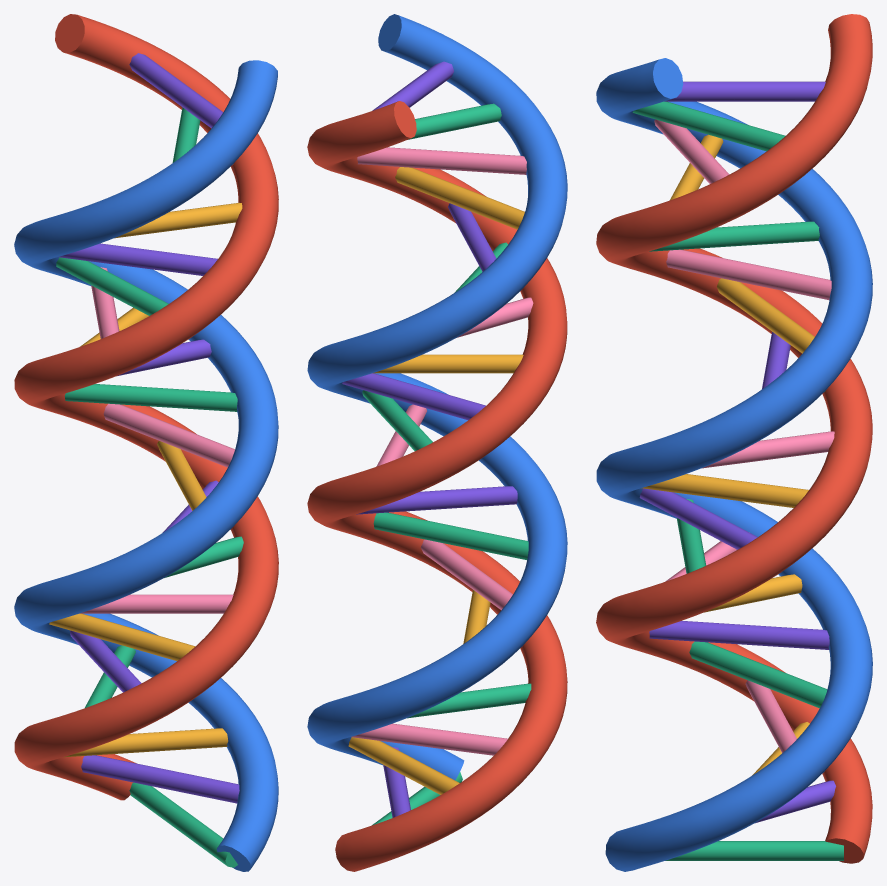
Rendered from mini.glb.
3 views of the same model, side by side, from view 1: azimuth 30°, elevation 25°; view 2: azimuth 150°, elevation 25°; view 3: azimuth 270°, elevation 25° (orthographic). The views are drawn at different scales.
Visible parts, largest first — view 1: mini_dna; view 2: mini_dna; view 3: mini_dna.
Boxes of the visible parts, left/top/right/bottom form: mini_dna: left=14, top=14, right=278, bottom=871; mini_dna: left=307, top=14, right=567, bottom=871; mini_dna: left=596, top=14, right=872, bottom=871.
Bounding box in the file's own units: 2.36 × 7.79 × 2.36.
